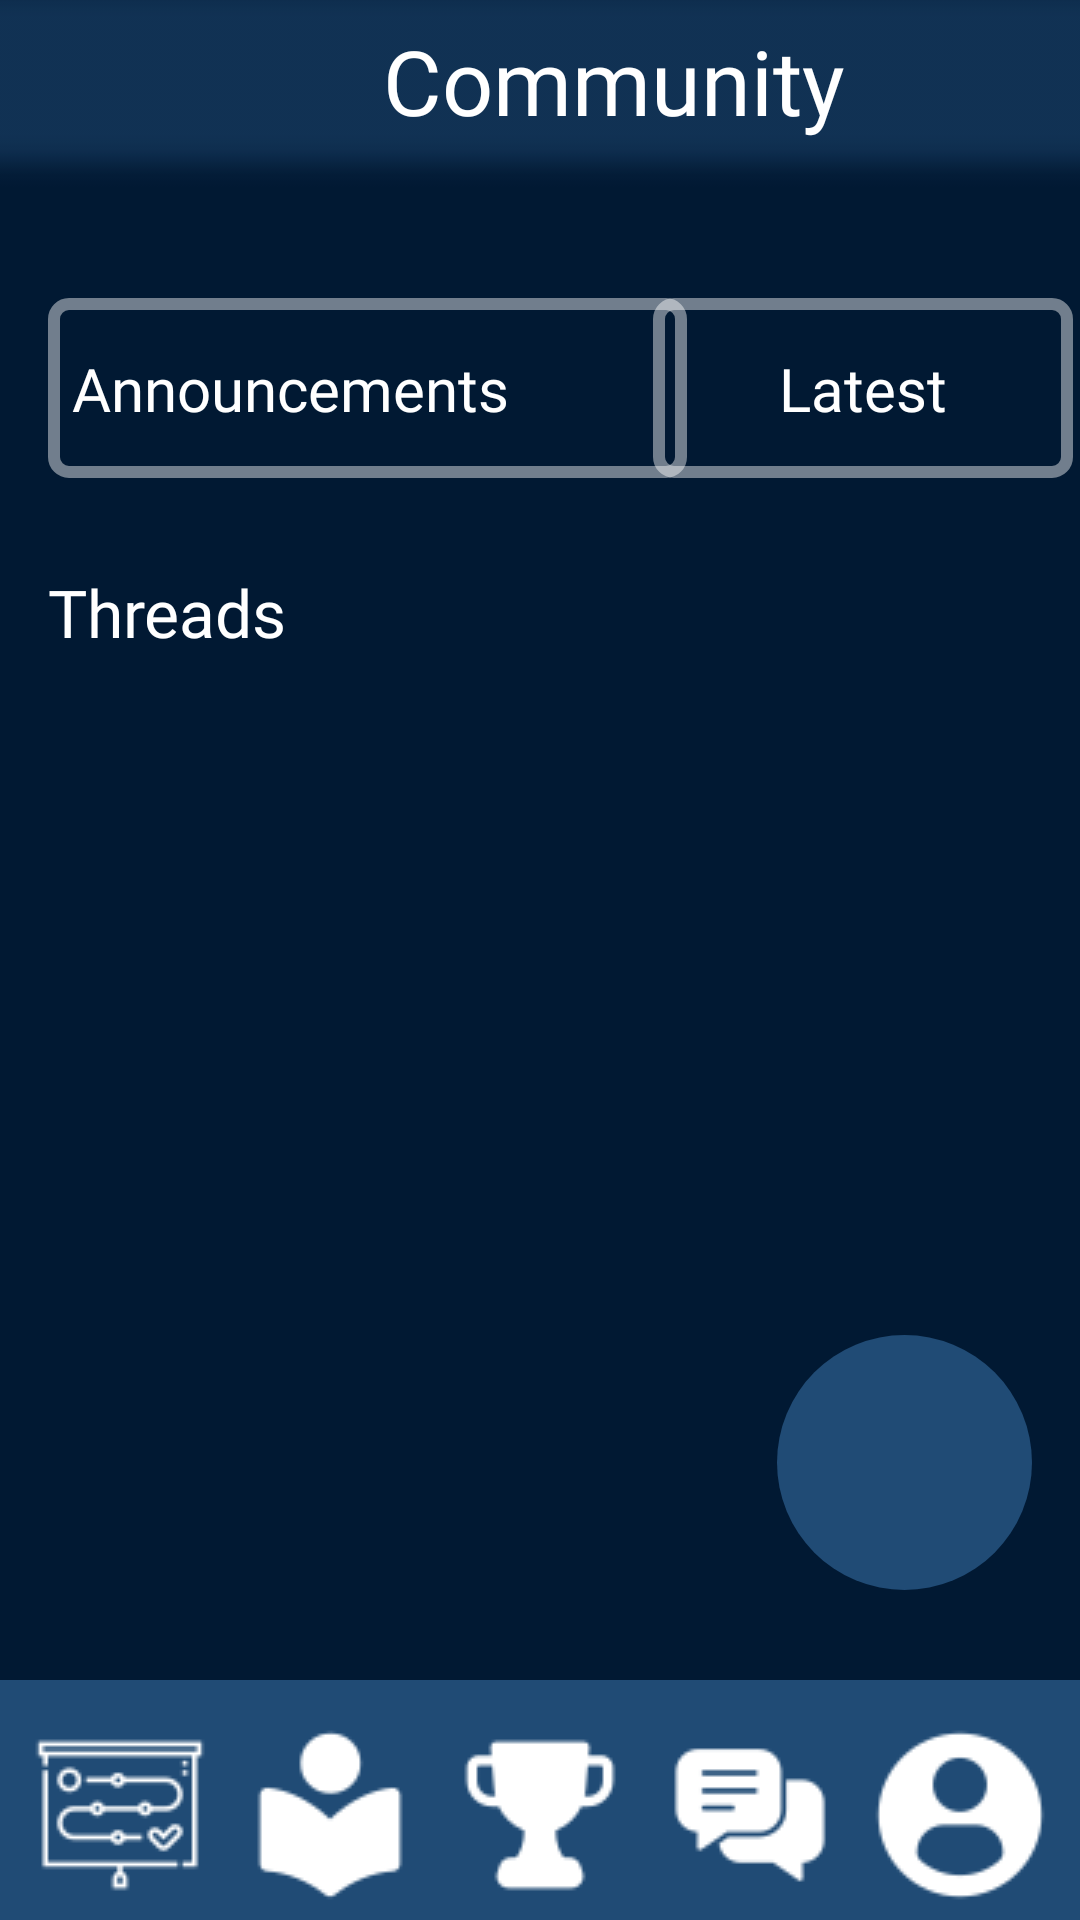

Named icons in this screenshot (1080px×1920px) and their bounding boxes, (x1, y1, x2, y2):
Articles: (257, 1731, 403, 1897)
Forums: (674, 1748, 826, 1882)
Leaderboard: (464, 1739, 616, 1891)
Profile User: (876, 1731, 1044, 1899)
Roadmap: (36, 1739, 204, 1891)
